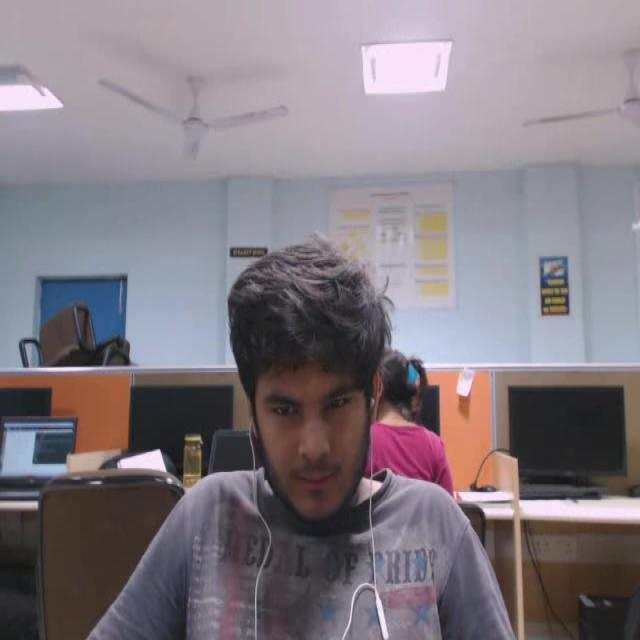Engaged: (194, 230, 406, 546)
